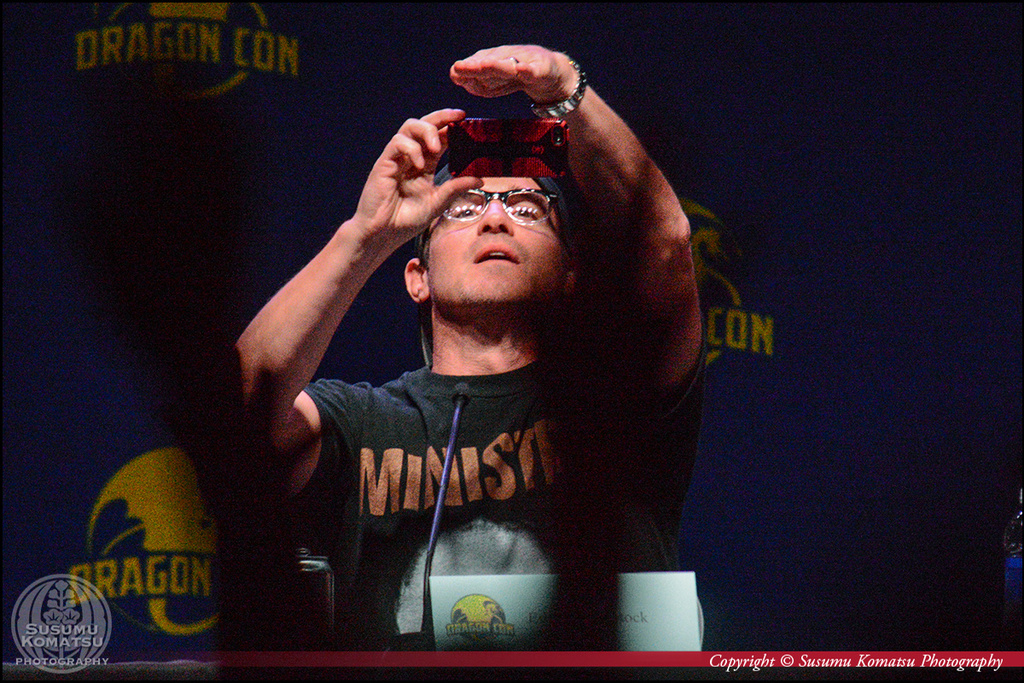Human_hand: (327, 96, 468, 275), (451, 43, 576, 104)
